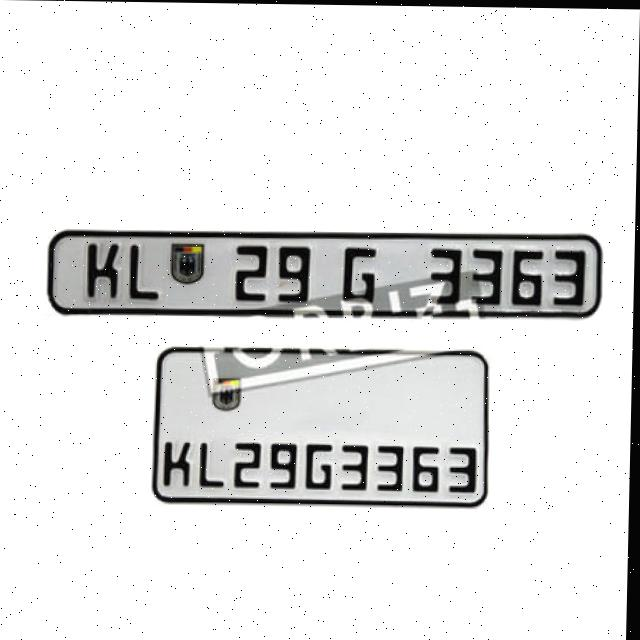plate: (154, 342, 494, 508), (47, 226, 605, 317)
